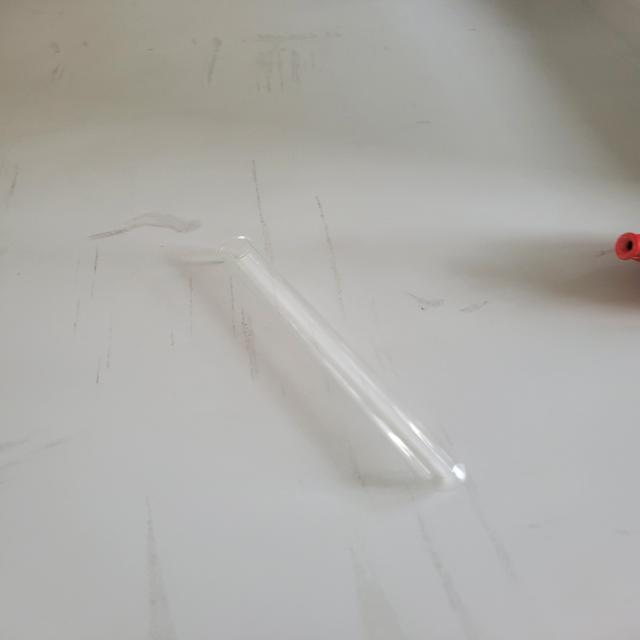Test_Tube: (189, 210, 497, 519)
